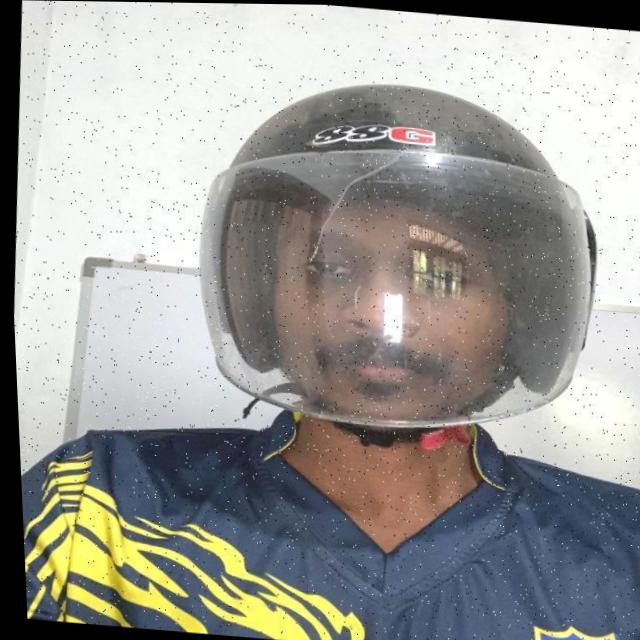helmet: (174, 65, 617, 467)
